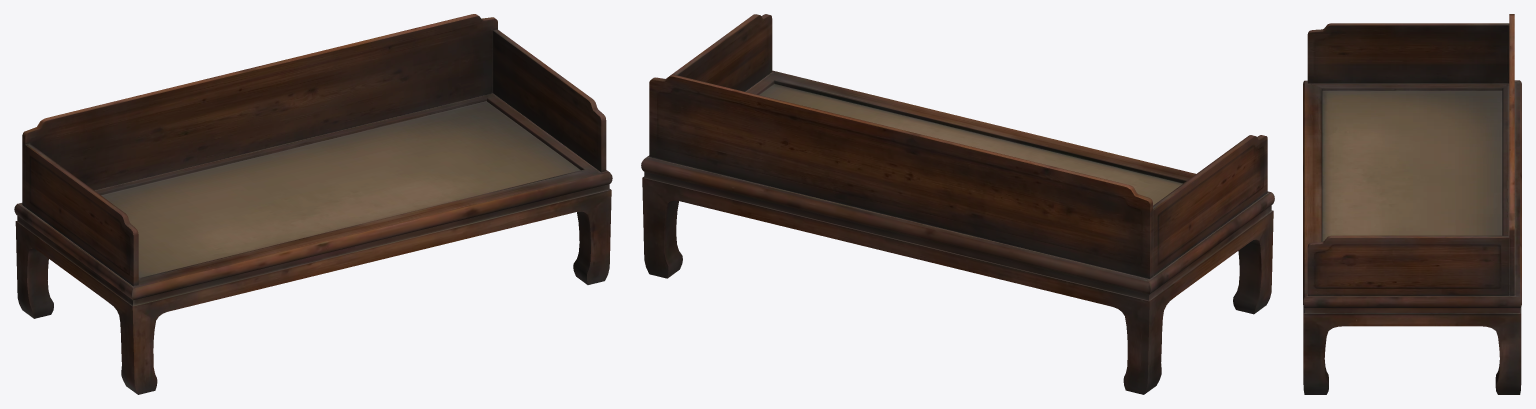
File: chinese_sofa.glb
3 renders of one model, left to right at view 1: azimuth 30°, elevation 25°; view 2: azimuth 150°, elevation 25°; view 3: azimuth 270°, elevation 25°, orthographic. The views are drawn at different scales.
Visible parts, largest first — view 1: chinese_sofa; view 2: chinese_sofa; view 3: chinese_sofa.
Part boxes in pixels (left/top/right/bottom): chinese_sofa: left=14, top=14, right=612, bottom=394; chinese_sofa: left=641, top=14, right=1274, bottom=394; chinese_sofa: left=1303, top=14, right=1521, bottom=394.
Bounding box in the file's own units: 2.29 × 0.8599 × 0.9687.
1 material, 1 textured.
